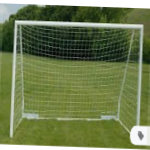goals: (9, 18, 140, 140)
